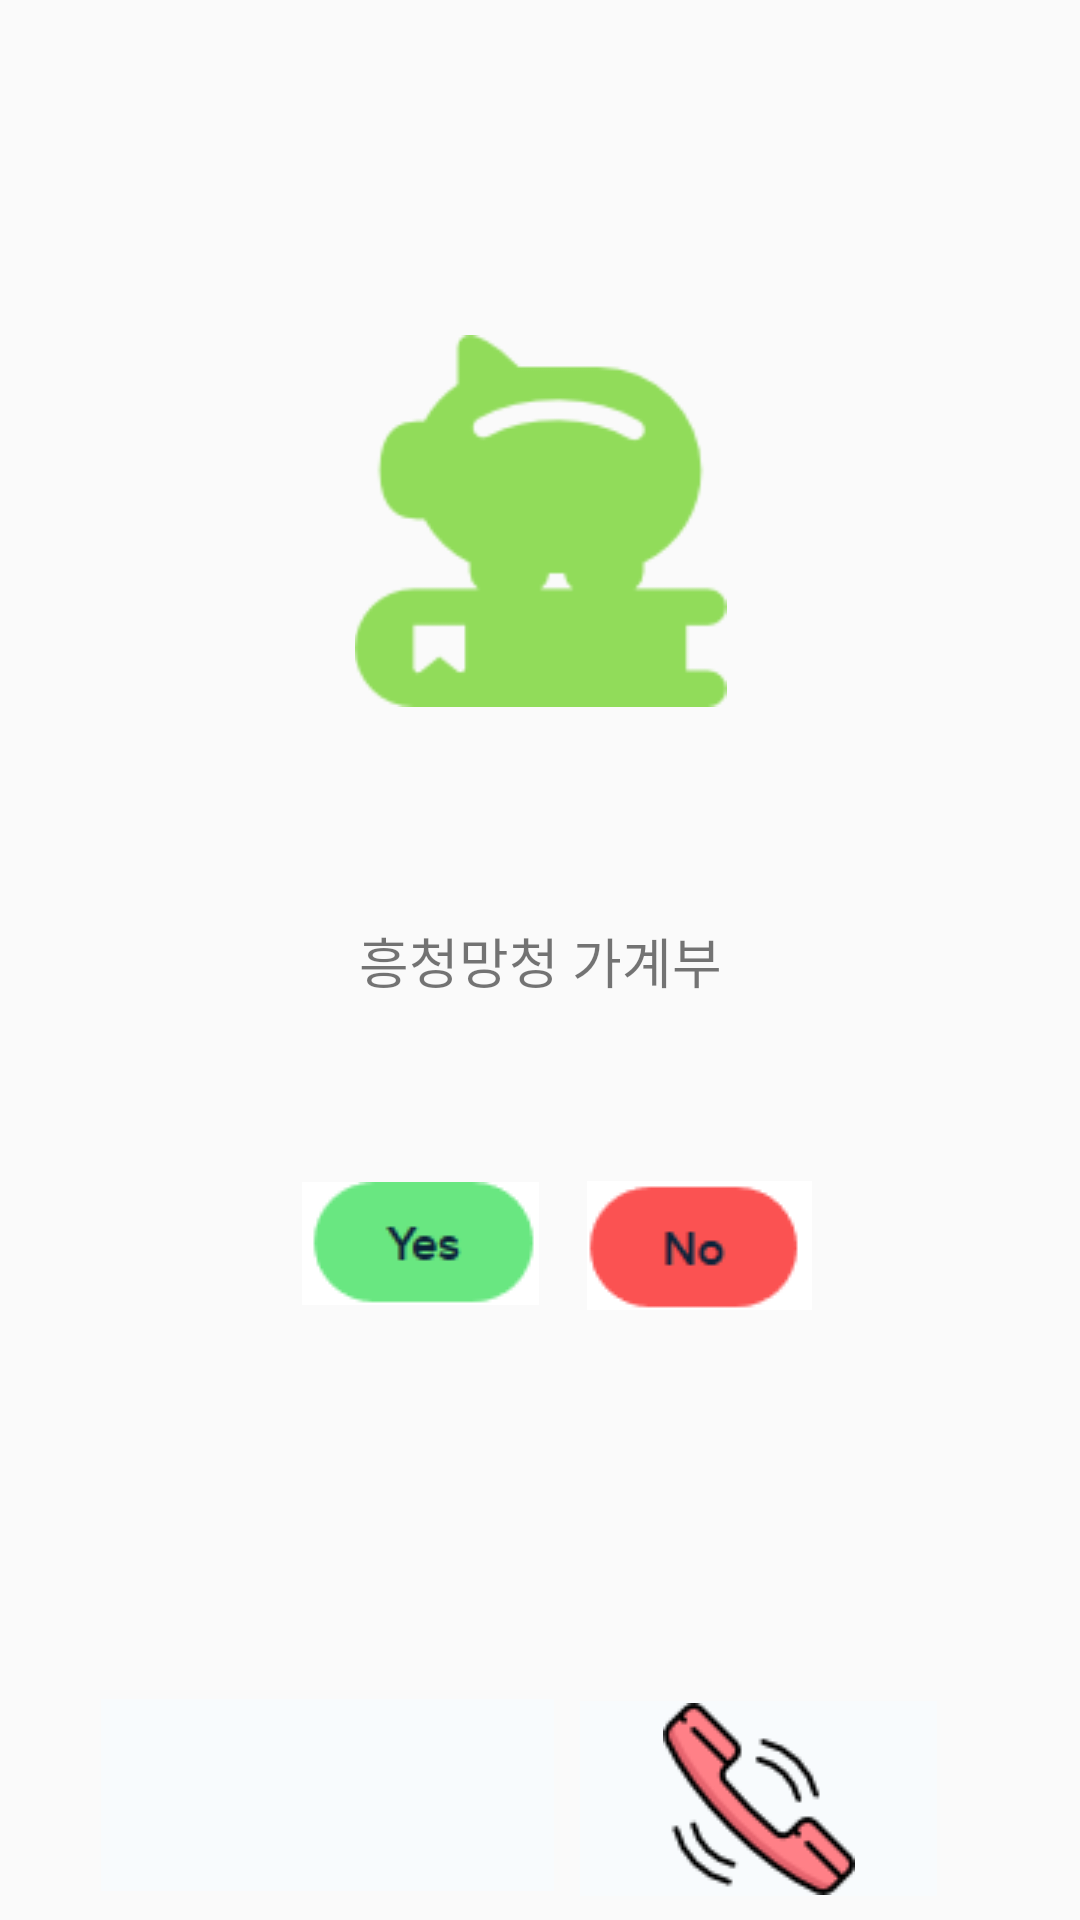

Icons on this 1080*1920 Android screen, each with the point to tap as point (x, y):
phone: point (759, 1799)
